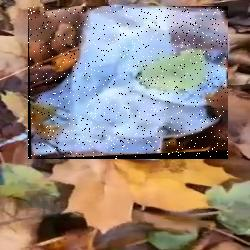plastic: (28, 6, 228, 159)
